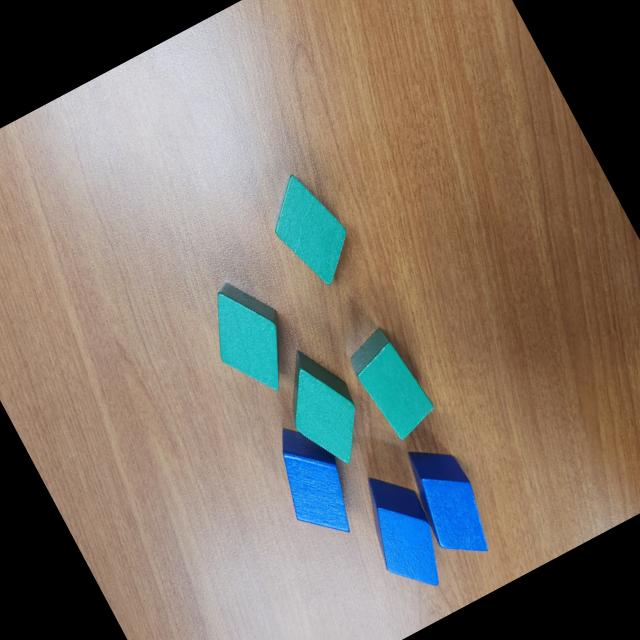blue: (344, 461, 460, 602), (257, 415, 367, 550), (395, 434, 503, 570)
green: (262, 336, 381, 478), (190, 269, 308, 405), (253, 162, 365, 294), (340, 323, 440, 445)
